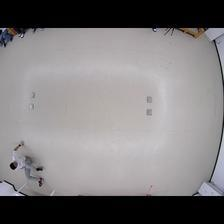fall: (9, 141, 45, 187)
